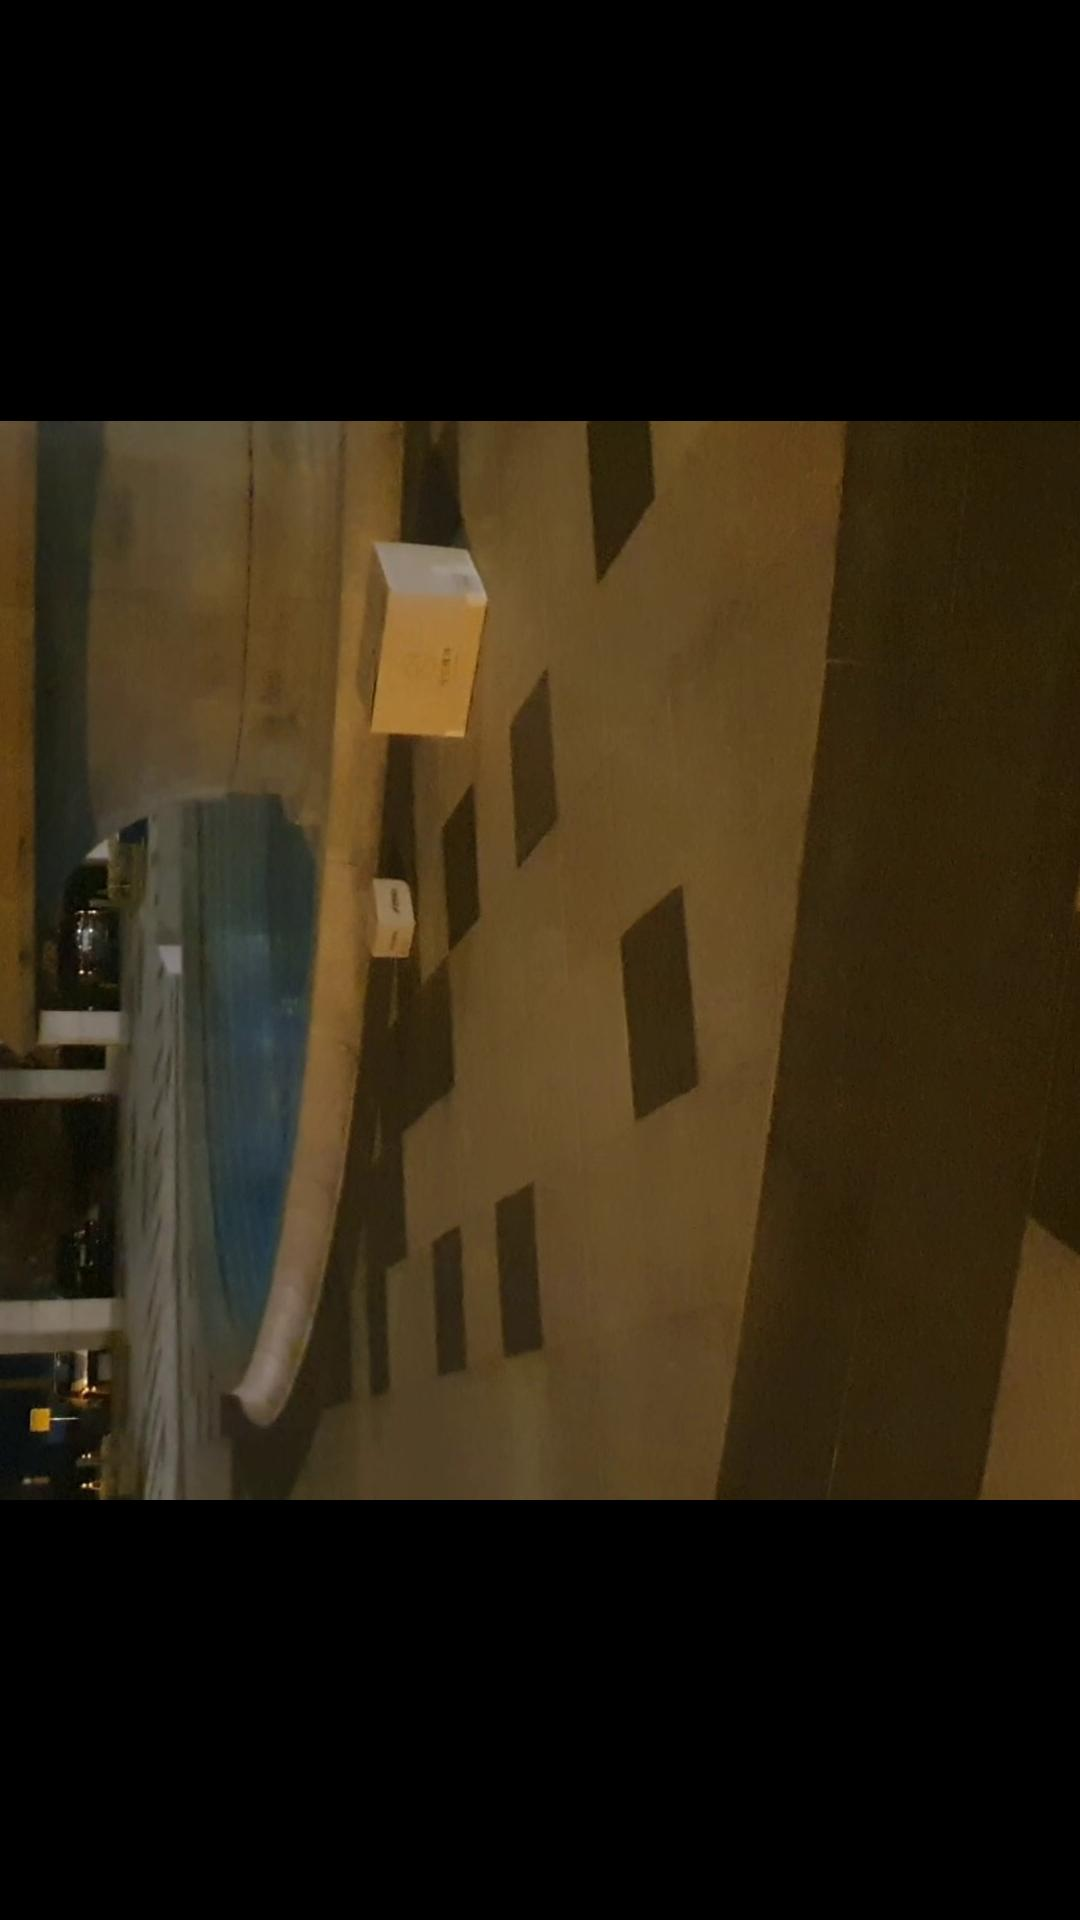Box: (345, 526, 491, 742), (349, 865, 417, 972)
